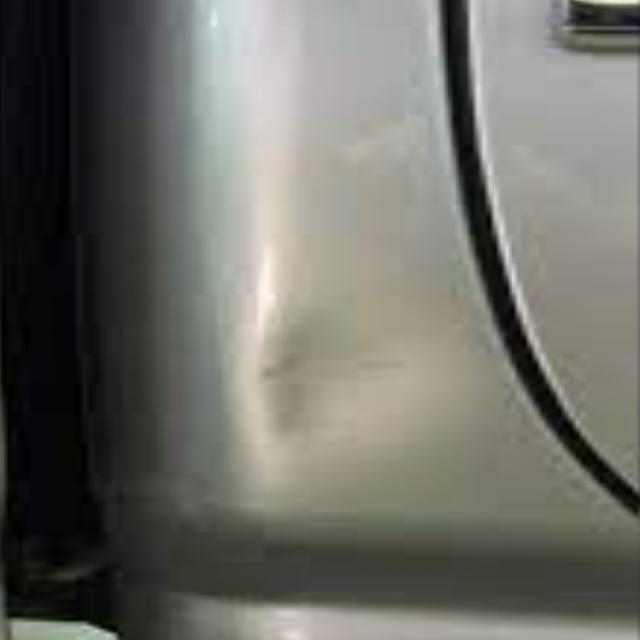dents: (176, 273, 414, 484)
